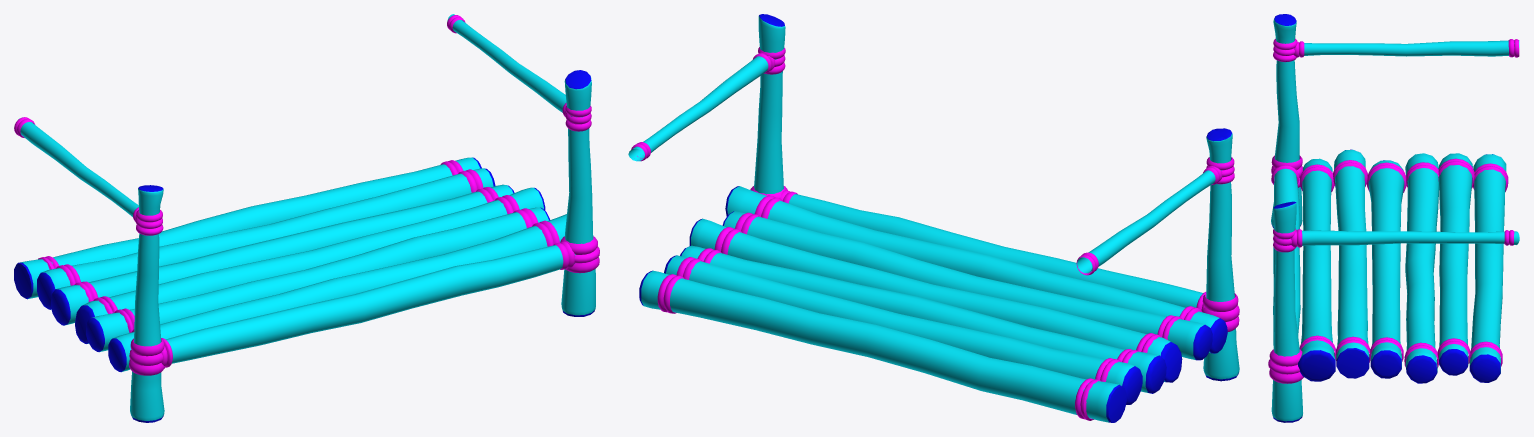
File: SM_Pont_02.FBX
3 renders of one model, left to right at view 1: azimuth 30°, elevation 25°; view 2: azimuth 150°, elevation 25°; view 3: azimuth 270°, elevation 25°, orthographic. The views are drawn at different scales.
Parts seen in each view (by area): view 1: Pont_1; view 2: Pont_1; view 3: Pont_1.
Boxes of the visible parts, x1=… form: Pont_1: x1=14, y1=14, x2=599, y2=422; Pont_1: x1=628, y1=14, x2=1239, y2=422; Pont_1: x1=1268, y1=14, x2=1519, y2=422.
Size of the model in its own units: 588 by 283 by 299.
